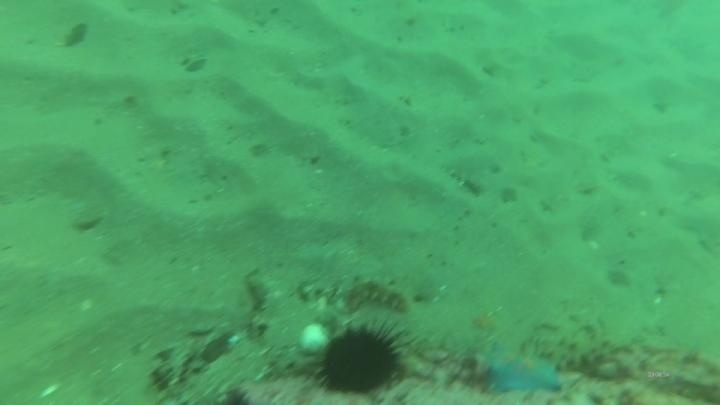echinus: (310, 319, 408, 399)
holothurian: (526, 321, 630, 376), (341, 273, 414, 316)
starfish: (476, 339, 566, 400)
